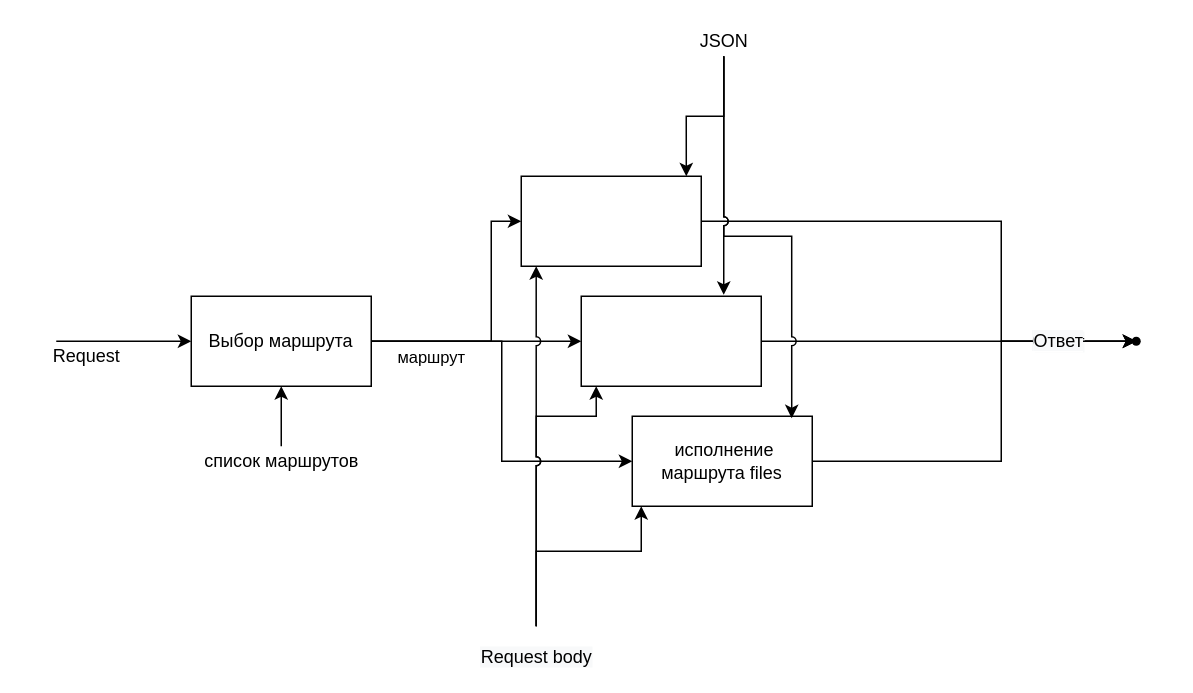
This 1193x693 diagram has some shape labels left out. The centre of each missing label's shape, as x and y in pixels:
"исполнение маршрута groups" belongs at [670,340].
"исполнение маршрута users" belongs at [610,220].
